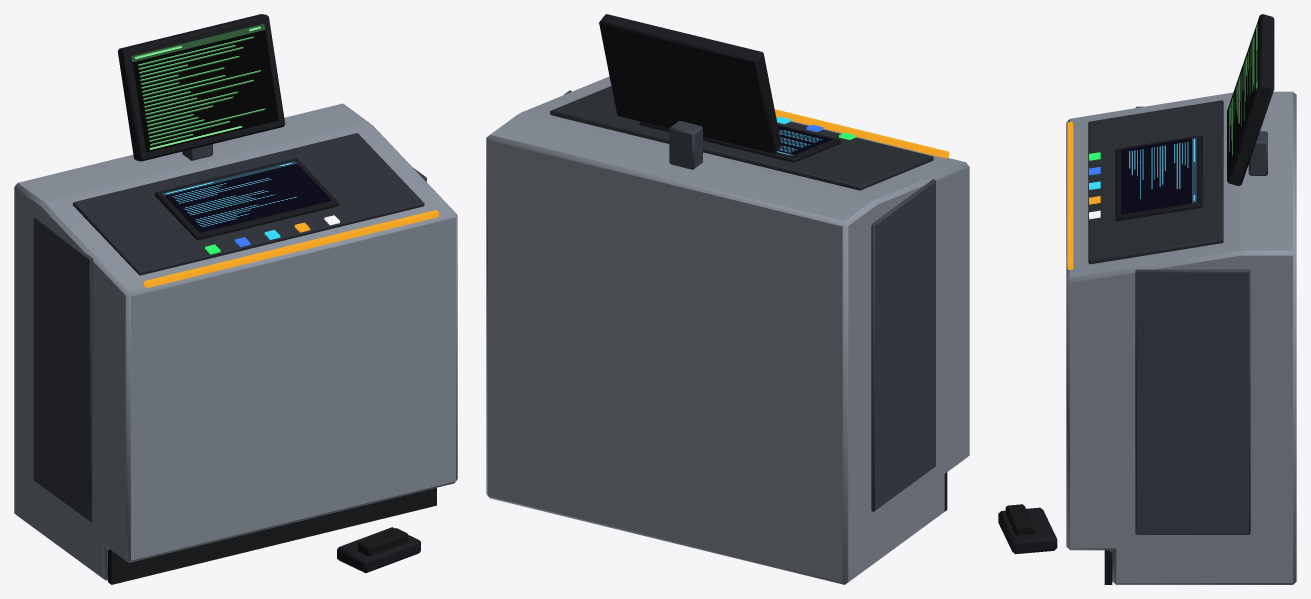
File: console_compact_aux.glb
3 renders of one model, left to right at view 1: azimuth 30°, elevation 25°; view 2: azimuth 150°, elevation 25°; view 3: azimuth 270°, elevation 25°, orthographic. The views are drawn at different scales.
Visible parts, largest first — view 1: console_compact_aux; view 2: console_compact_aux; view 3: console_compact_aux.
Boxes of the visible parts, left/top/right/bottom form: console_compact_aux: left=14, top=14, right=457, bottom=584; console_compact_aux: left=486, top=14, right=969, bottom=584; console_compact_aux: left=998, top=14, right=1296, bottom=584.
Size of the model in its own units: 1.02 by 1.31 by 0.7771.
12 materials, 2 textured.
